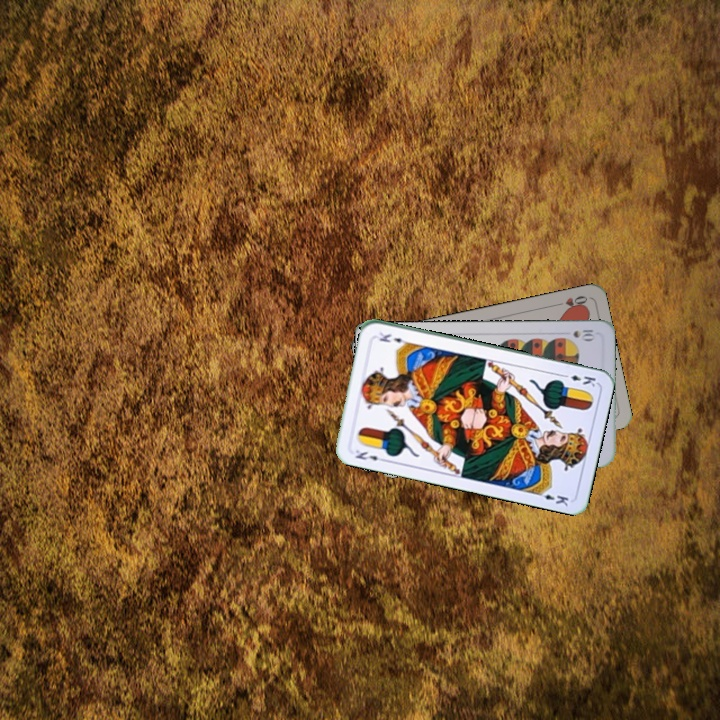EK: (348, 445, 388, 465), (558, 370, 598, 389)
HO: (550, 291, 590, 312)
S10: (569, 325, 598, 342)
